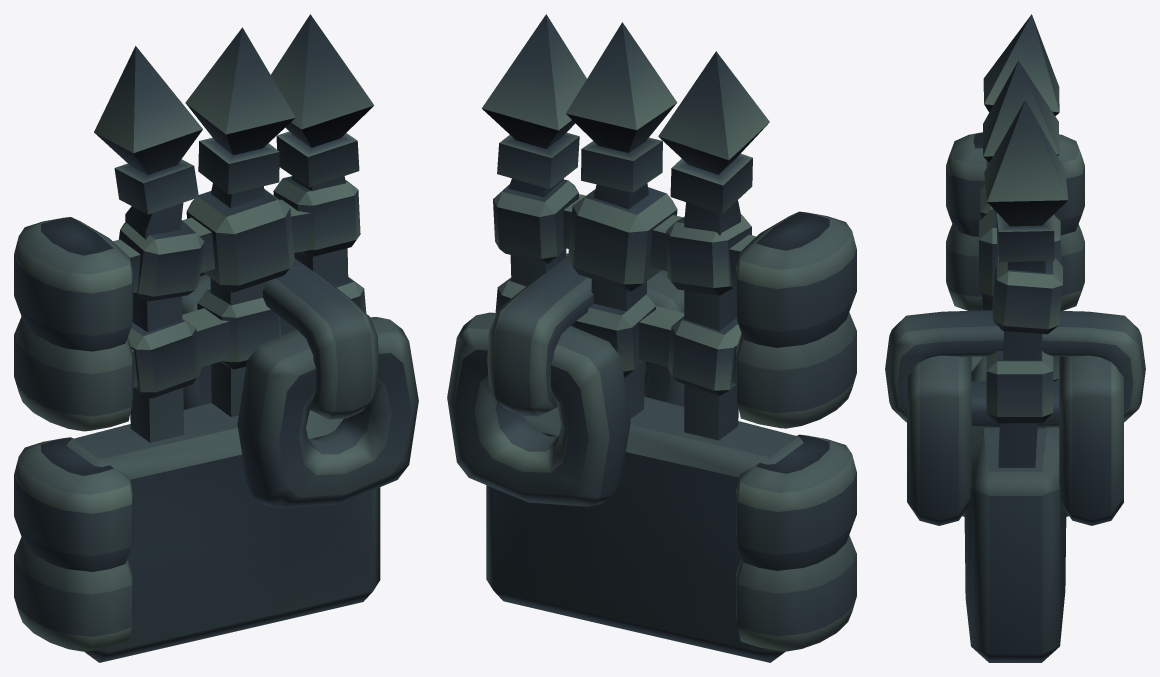
Rendered from door_left_gate.fbx.
The picture shows the model from 3 angles, left to right: view 1: azimuth 30°, elevation 25°; view 2: azimuth 150°, elevation 25°; view 3: azimuth 270°, elevation 25°; orthographic projection. The views are drawn at different scales.
Visible parts, largest first — view 1: door_left_gate, door_handles; view 2: door_left_gate, door_handles; view 3: door_left_gate, door_handles.
Boxes of the visible parts, bbox=[...] form: door_left_gate: bbox=[14, 14, 380, 662]; door_handles: bbox=[182, 258, 418, 508]; door_left_gate: bbox=[482, 14, 856, 662]; door_handles: bbox=[447, 253, 684, 506]; door_left_gate: bbox=[946, 14, 1084, 662]; door_handles: bbox=[885, 310, 1145, 525].
Size of the model in its own units: 122 by 201 by 85.54.
